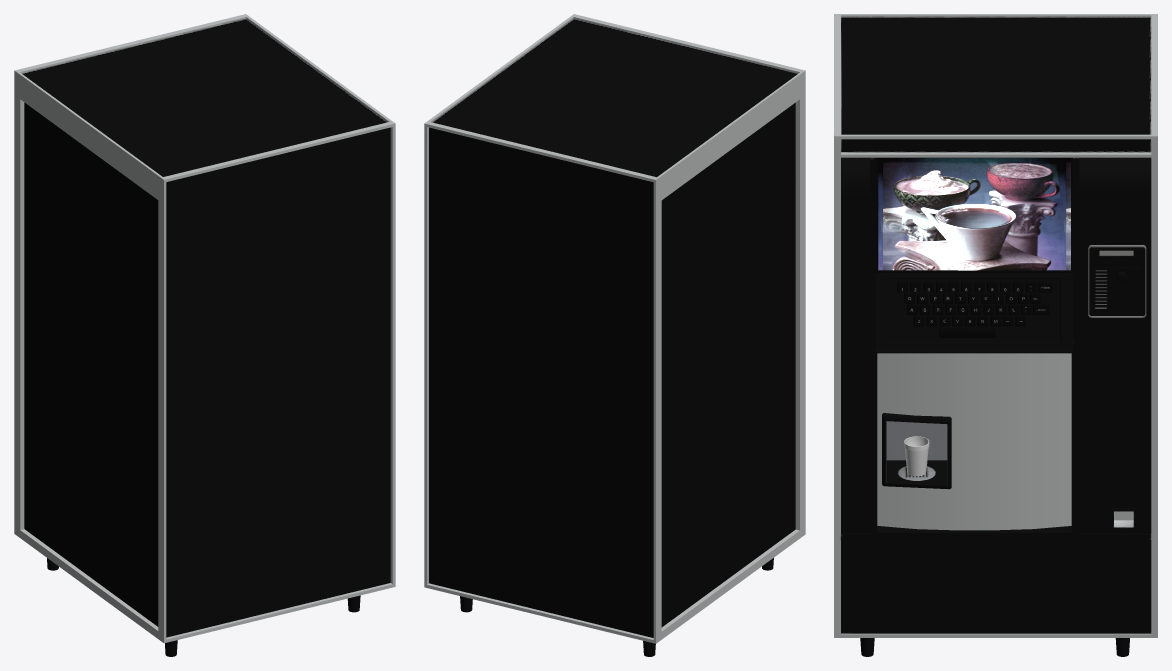
Rendered from coffee_machine.glb.
3 views of the same model, side by side, from view 1: azimuth 30°, elevation 25°; view 2: azimuth 150°, elevation 25°; view 3: azimuth 270°, elevation 25° (orthographic). The views are drawn at different scales.
Visible parts, largest first — view 1: SCP-294; view 2: SCP-294; view 3: SCP-294, Cup, Key.space.
Part boxes in pixels (box(x1,y1,x2,y2)): SCP-294: box(14, 14, 395, 656); SCP-294: box(424, 14, 805, 656); SCP-294: box(834, 14, 1157, 656); Cup: box(904, 436, 929, 476); Key.space: box(939, 327, 995, 337).
Size of the model in its own units: 0.8801 by 1.75 by 0.9631.
Materials: 4 (3 with a texture image).
